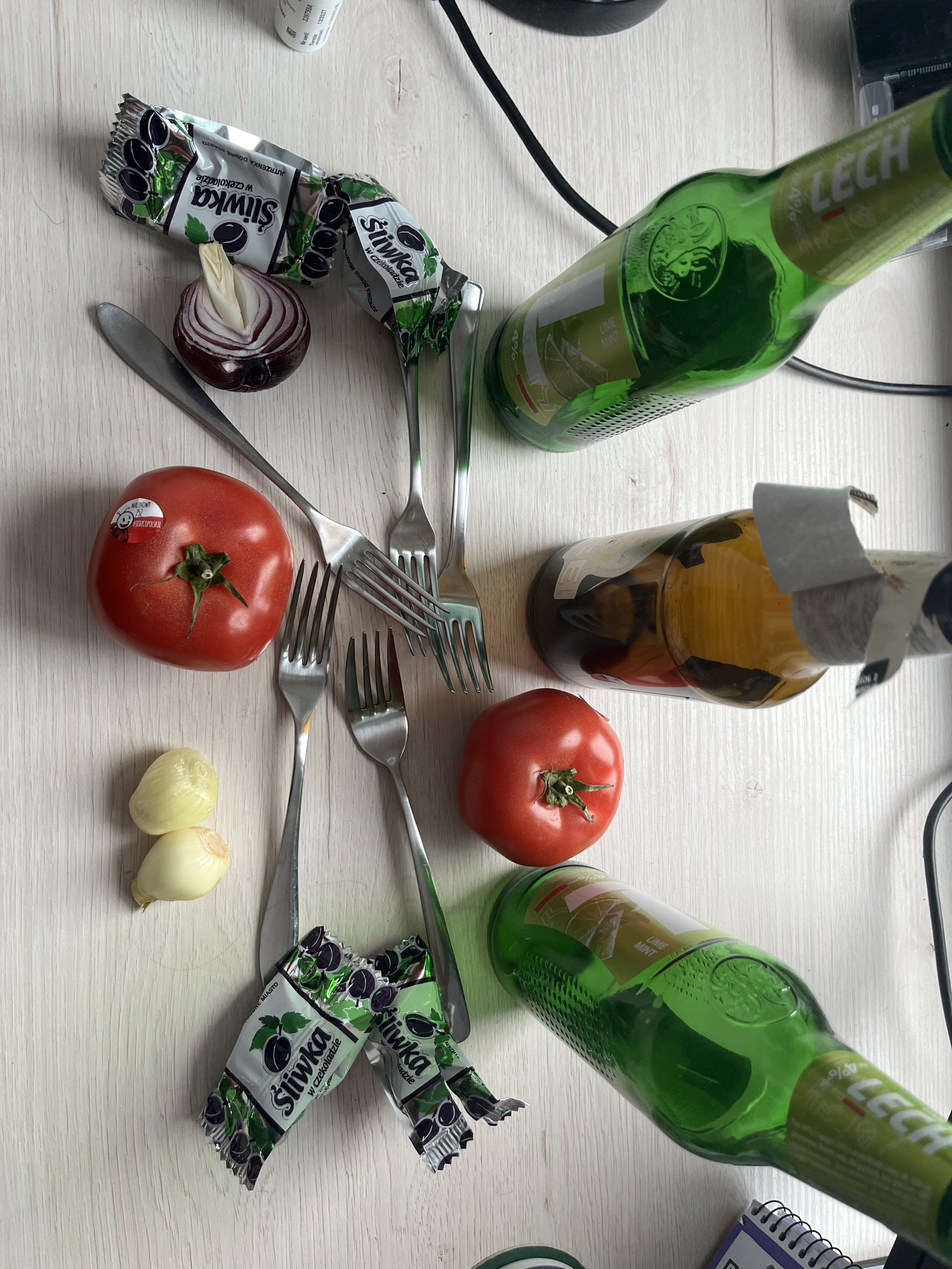BIODEGRADABLE: (72, 448, 323, 700), (325, 644, 417, 1061), (455, 698, 630, 873), (169, 232, 315, 385), (102, 824, 243, 908), (107, 744, 239, 829)
GLASS: (440, 258, 895, 496), (520, 483, 952, 720), (443, 953, 654, 1269)
METAL: (255, 569, 345, 997), (65, 308, 133, 778), (363, 326, 457, 641), (436, 274, 501, 692)
PLASTIC: (64, 75, 344, 275), (275, 918, 415, 1143), (375, 945, 503, 1151), (300, 215, 417, 401)
